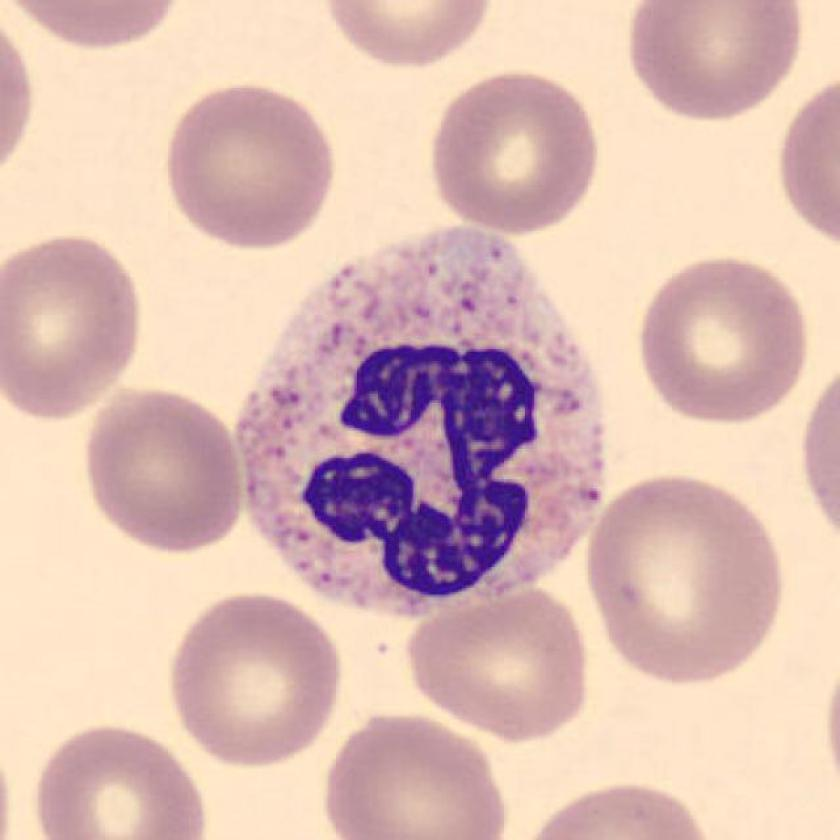neutrophil: (235, 227, 606, 615)
